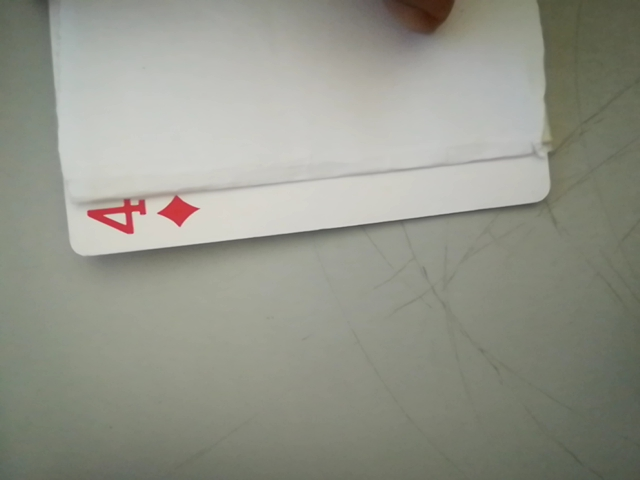fk 4: (81, 190, 204, 246)
